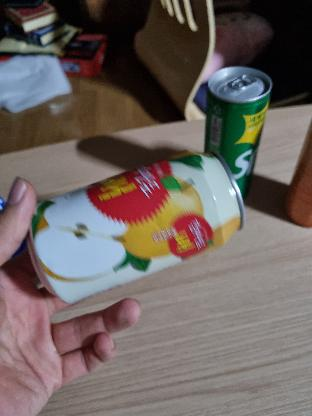Can: (27, 153, 245, 306)
